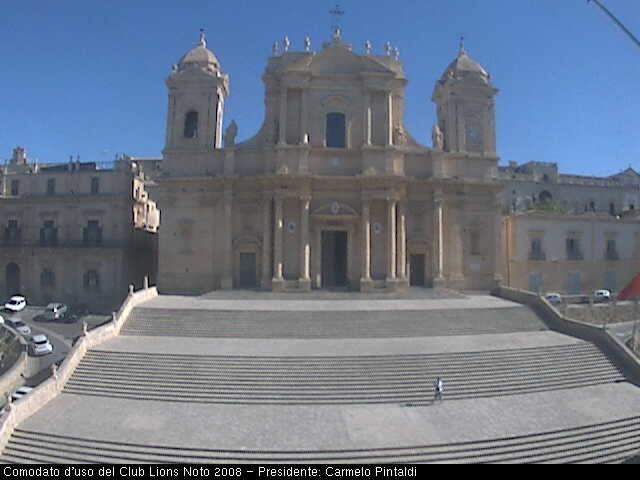person: (429, 375, 446, 407)
